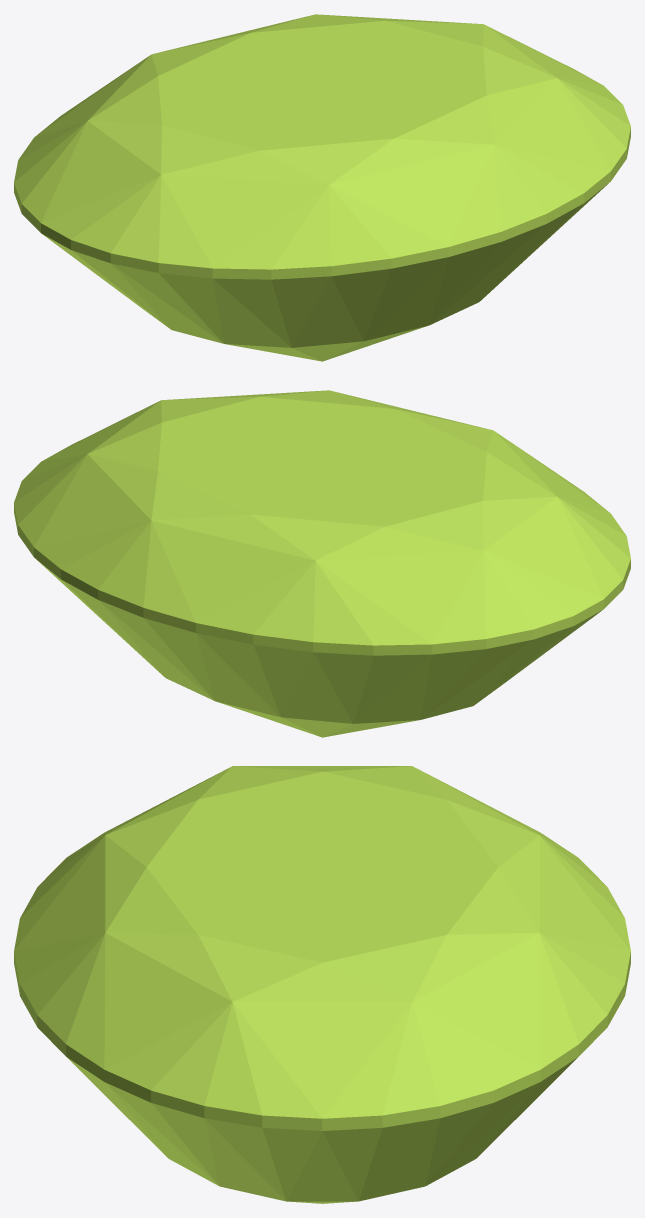
The model's file is jewelry.glb.
3 views of the same model, one above another, from view 1: azimuth 30°, elevation 25°; view 2: azimuth 150°, elevation 25°; view 3: azimuth 270°, elevation 25° (orthographic). The views are drawn at different scales.
Visible parts, largest first — view 1: Gemstone Peridot; view 2: Gemstone Peridot; view 3: Gemstone Peridot.
Boxes of the visible parts, bbox=[...] form: Gemstone Peridot: bbox=[14, 14, 630, 361]; Gemstone Peridot: bbox=[14, 390, 630, 737]; Gemstone Peridot: bbox=[14, 766, 630, 1203].
Size of the model in its own units: 2.2 by 1.03 by 1.71.
